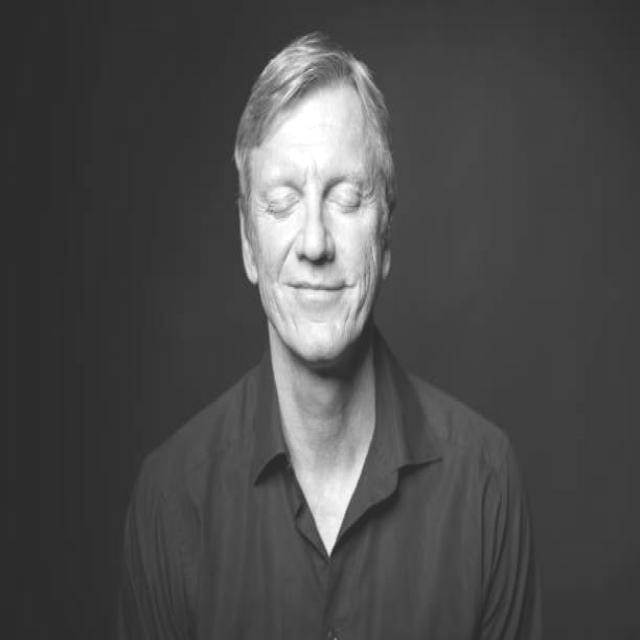real: (232, 51, 395, 365), (259, 170, 374, 224)
